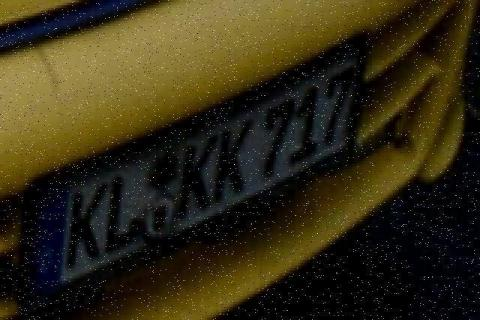LicensePlate: (20, 13, 386, 310)
